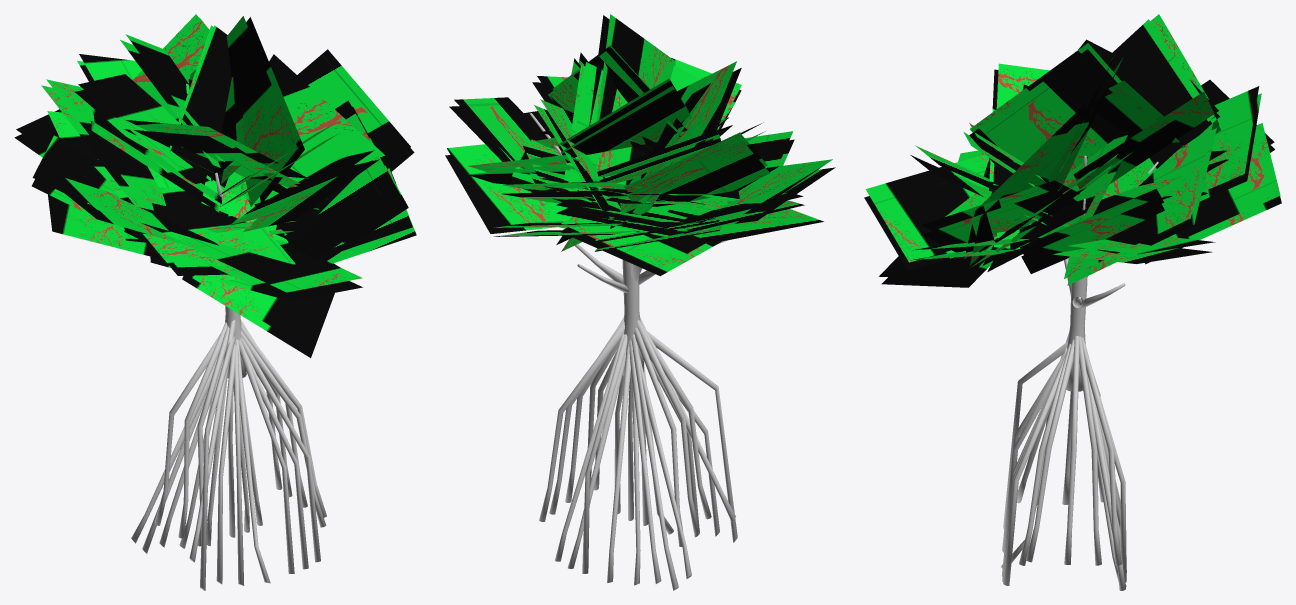
The model's file is MangalPequeno.dae.
3 views of the same model, side by side, from view 1: azimuth 30°, elevation 25°; view 2: azimuth 150°, elevation 25°; view 3: azimuth 270°, elevation 25° (orthographic). The views are drawn at different scales.
Visible parts, largest first — view 1: Cilindro.005; view 2: Cilindro.005; view 3: Cilindro.005.
Boxes of the visible parts, left/top/right/bottom form: Cilindro.005: left=14, top=14, right=416, bottom=590; Cilindro.005: left=445, top=14, right=835, bottom=590; Cilindro.005: left=864, top=14, right=1281, bottom=590.
Size of the model in its own units: 5.45 by 5.82 by 8.29.
